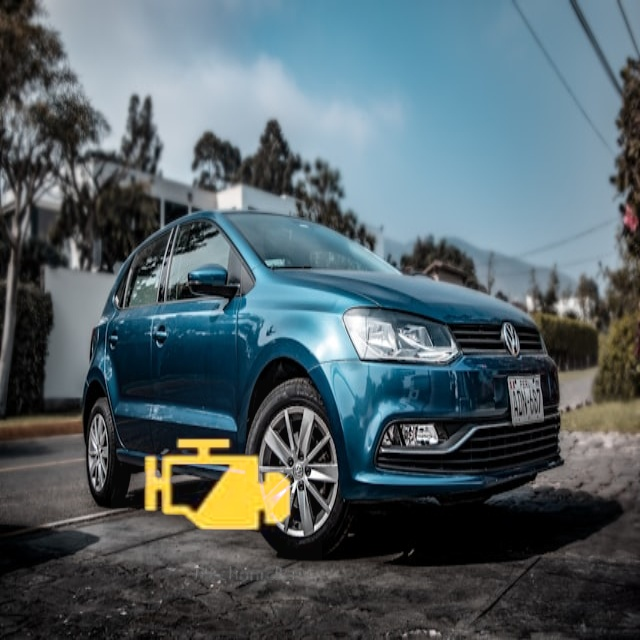symbol: (111, 380, 322, 591)
